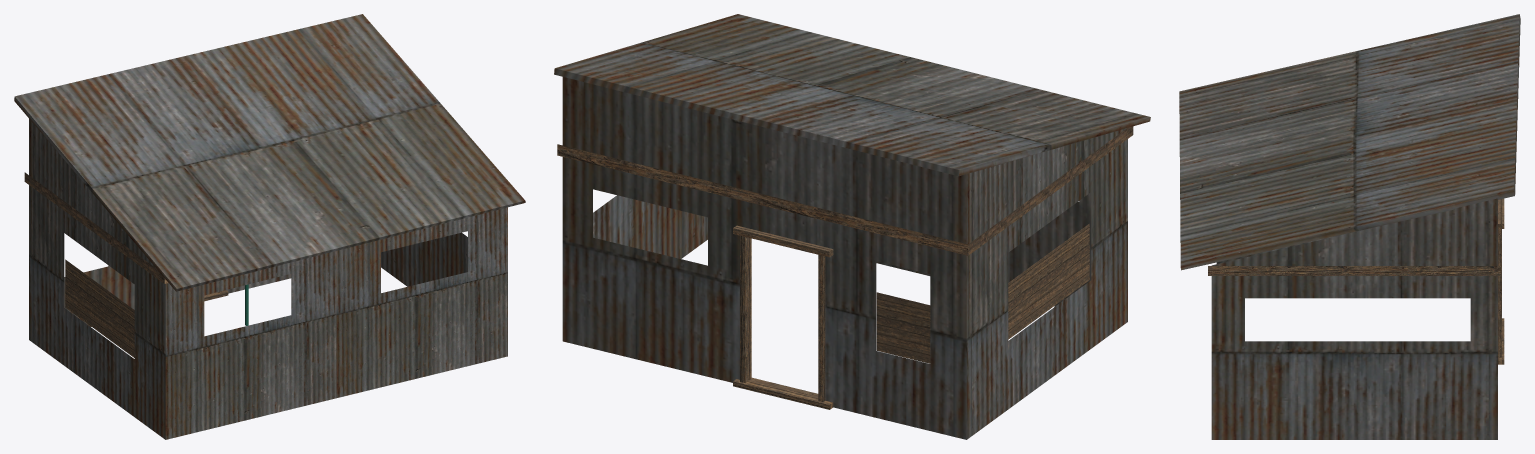
Rendered from BuildingSmall02_2048_lod2.glb.
The picture shows the model from 3 angles, left to right: view 1: azimuth 30°, elevation 25°; view 2: azimuth 150°, elevation 25°; view 3: azimuth 270°, elevation 25°; orthographic projection. The views are drawn at different scales.
Parts seen in each view (by area): view 1: xiutz_building_small_02_lod2; view 2: xiutz_building_small_02_lod2; view 3: xiutz_building_small_02_lod2.
Part boxes in pixels (bbox=[...]): xiutz_building_small_02_lod2: bbox=[14, 14, 525, 439]; xiutz_building_small_02_lod2: bbox=[554, 14, 1150, 439]; xiutz_building_small_02_lod2: bbox=[1179, 14, 1520, 439].
Bounding box in the file's own units: 8.52 × 5.51 × 6.86.
Materials: 1 (1 with a texture image).
